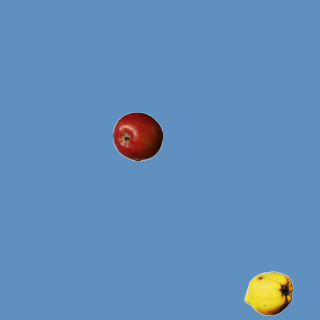Apple Braeburn: (112, 111, 162, 161)
Quince: (243, 268, 293, 318)
